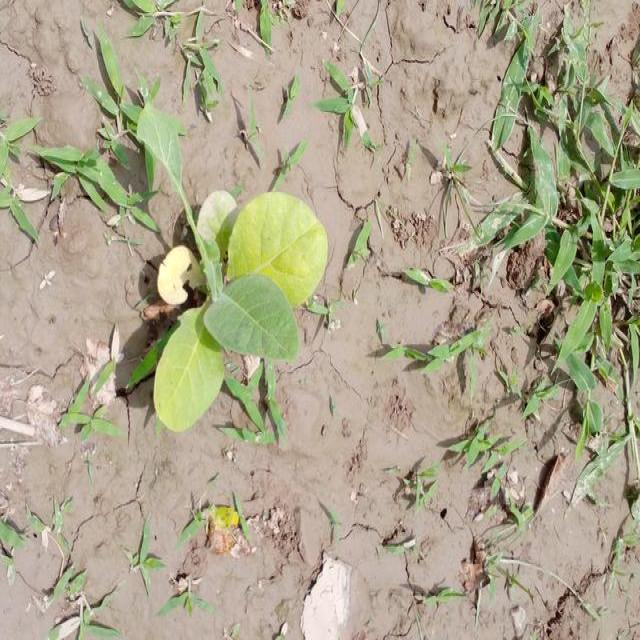crop: (132, 109, 326, 432)
